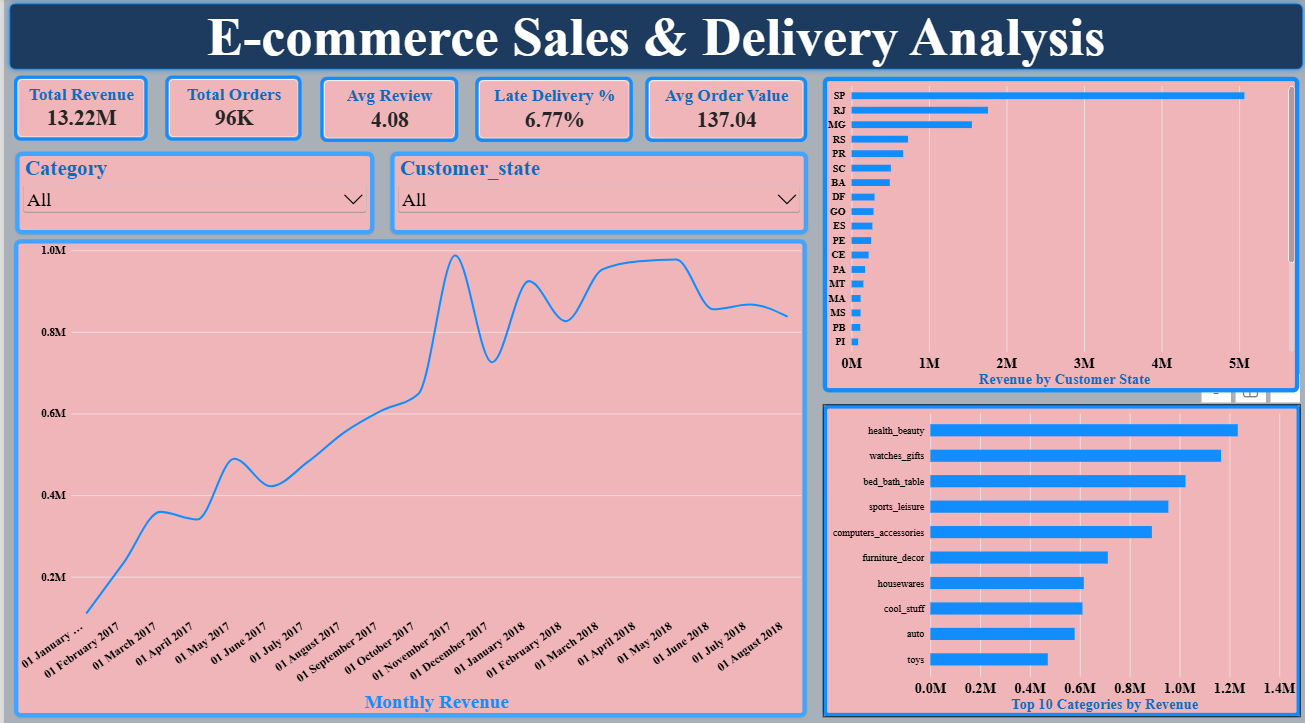

What the dashboard file says about the page in this screenshot:
{"tool":"powerbi","page":{"name":"Sales Overview","canvas":[1920,1080],"ordinal":0},"visuals":[{"type":"cardVisual","fields":{"Data":["fact_sales.Total Revenue"]},"box":[14.4,113.2,197.6,96.7],"z":0},{"type":"cardVisual","fields":{"Data":["fact_sales.Avg Order Value"]},"box":[944.8,115.3,238.8,96.7],"z":1000},{"type":"cardVisual","fields":{"Data":["fact_sales.Avg Review"]},"box":[465.2,115.3,203.8,96.7],"z":2000},{"type":"cardVisual","fields":{"Data":["fact_sales.Late Delivery %"]},"box":[693.7,115.3,232.6,96.7],"z":3000},{"type":"lineChart","fields":{"Category":["fact_sales.purchase_month"],"Y":["fact_sales.Total Revenue"]},"box":[14.4,356.1,1167.1,703.9],"z":4000},{"type":"cardVisual","fields":{"Data":["fact_sales.Total Orders"]},"box":[236.7,113.2,201.7,96.7],"z":5000},{"type":"clusteredBarChart","fields":{"Category":["fact_sales.category"],"Y":["fact_sales.Total Revenue"]},"box":[1206.2,599,703.9,461.1],"z":6000},{"type":"clusteredBarChart","fields":{"Category":["fact_sales.customer_state"],"Y":["fact_sales.Total Revenue"]},"box":[1206.2,115.3,701.9,465.2],"z":7000},{"type":"slicer","fields":{"Values":["fact_sales.customer_state"]},"box":[568.1,226.4,615.4,121.4],"z":8000},{"type":"slicer","fields":{"Values":["fact_sales.category"]},"box":[16.5,226.4,529,121.4],"z":9000},{"type":"shape","box":[0,0,1920.4,113.2],"z":10000}]}

Visuals, with their boxes in screenshot pixels (x1, y1, x2, y2), scaled from the page's 1920x1080 canvas onto the 1305x723 screenshot:
cardVisual - fact_sales.Total Revenue: [10, 76, 144, 141]
cardVisual - fact_sales.Avg Order Value: [642, 77, 804, 142]
cardVisual - fact_sales.Avg Review: [316, 77, 455, 142]
cardVisual - fact_sales.Late Delivery %: [471, 77, 630, 142]
lineChart - fact_sales.purchase_month x fact_sales.Total Revenue: [10, 238, 803, 710]
cardVisual - fact_sales.Total Orders: [161, 76, 298, 141]
clusteredBarChart - fact_sales.category x fact_sales.Total Revenue: [820, 401, 1298, 710]
clusteredBarChart - fact_sales.customer_state x fact_sales.Total Revenue: [820, 77, 1297, 389]
slicer - fact_sales.customer_state: [386, 152, 804, 233]
slicer - fact_sales.category: [11, 152, 371, 233]
shape: [0, 0, 1304, 76]
